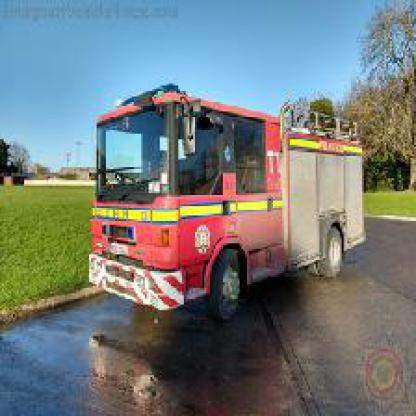emergency: (67, 87, 401, 332)
